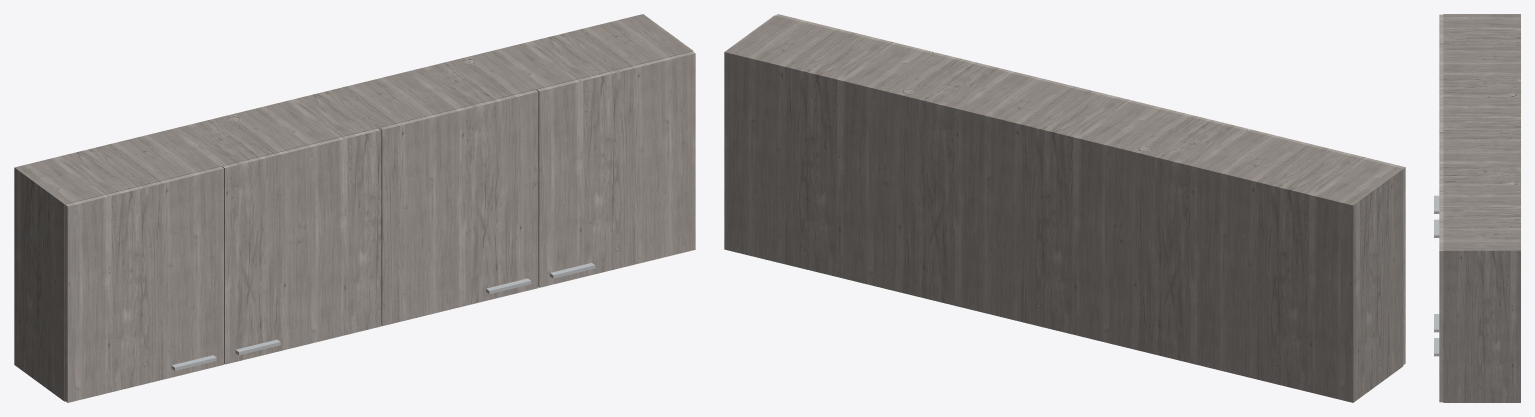
The model's file is wall-ldsp.glb.
3 renders of one model, left to right at view 1: azimuth 30°, elevation 25°; view 2: azimuth 150°, elevation 25°; view 3: azimuth 270°, elevation 25°, orthographic. The views are drawn at different scales.
Visible parts, largest first — view 1: wall-cabinets; view 2: wall-cabinets; view 3: wall-cabinets.
Boxes of the visible parts, bbox=[...] form: wall-cabinets: bbox=[14, 14, 695, 402]; wall-cabinets: bbox=[724, 14, 1405, 402]; wall-cabinets: bbox=[1434, 14, 1520, 402].
Bounding box in the file's own units: 2.4 × 0.72 × 0.372.
Materials: 3 (2 with a texture image).
